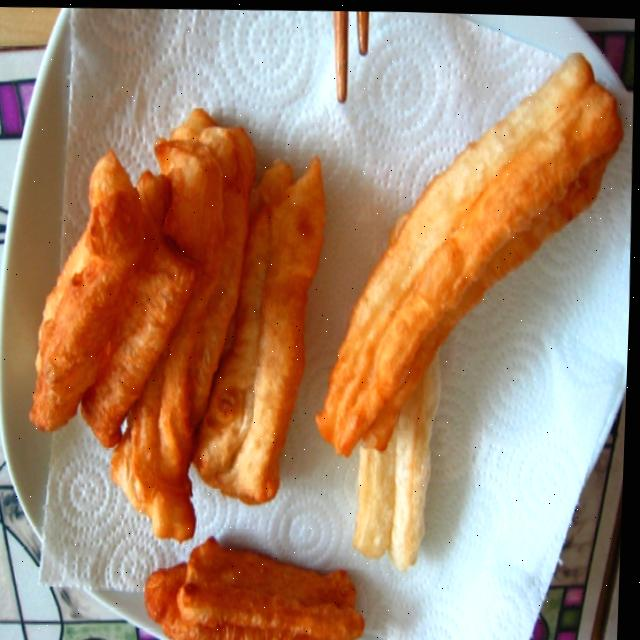炸货点心: (6, 28, 637, 640)
